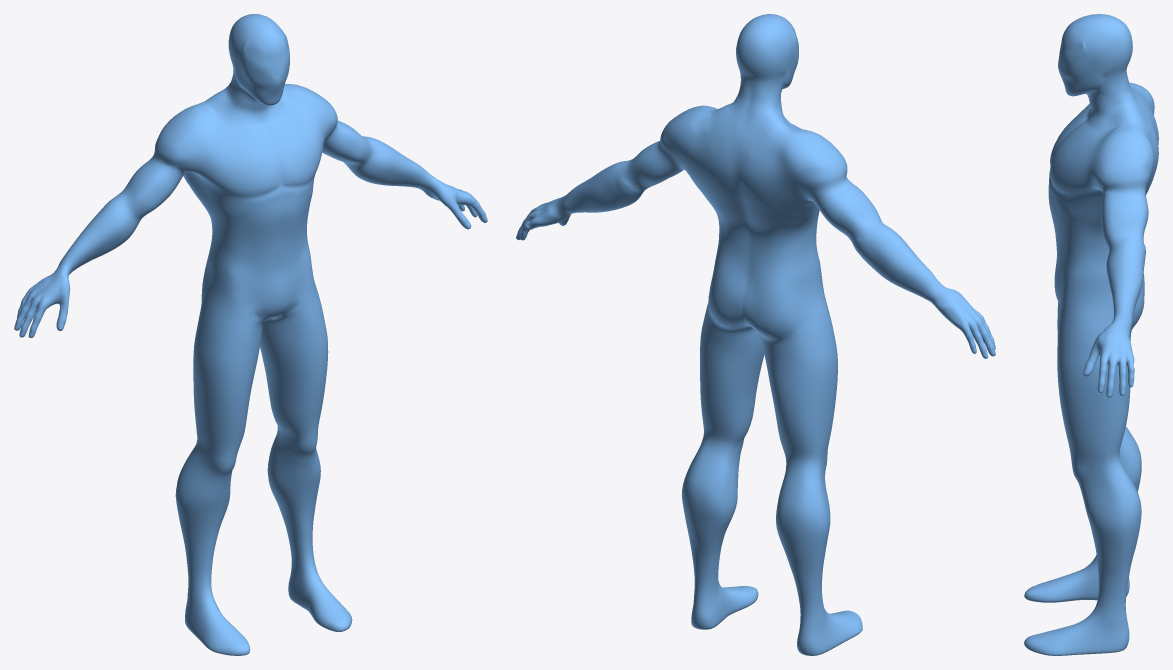
File: 3dtwins_official-3.glb
3 renders of one model, left to right at view 1: azimuth 30°, elevation 25°; view 2: azimuth 150°, elevation 25°; view 3: azimuth 270°, elevation 25°, orthographic. The views are drawn at different scales.
Parts seen in each view (by area): view 1: Object_4; view 2: Object_4; view 3: Object_4.
Boxes of the visible parts, x1,y1,x2,y2 form: Object_4: [14, 14, 487, 655]; Object_4: [516, 14, 995, 655]; Object_4: [1024, 14, 1158, 655].
Size of the model in its own units: 1.62 by 2 by 0.4041.
